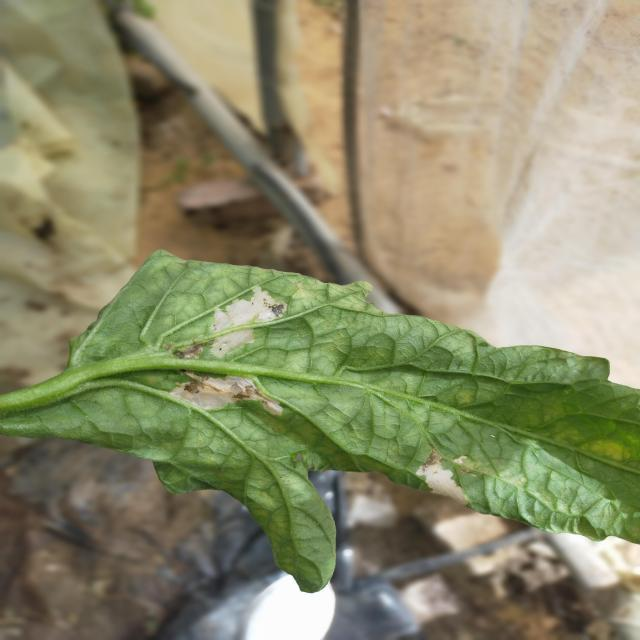Tuta absoluta: (203, 279, 289, 347), (169, 371, 284, 416), (411, 448, 477, 515), (208, 328, 256, 359)
